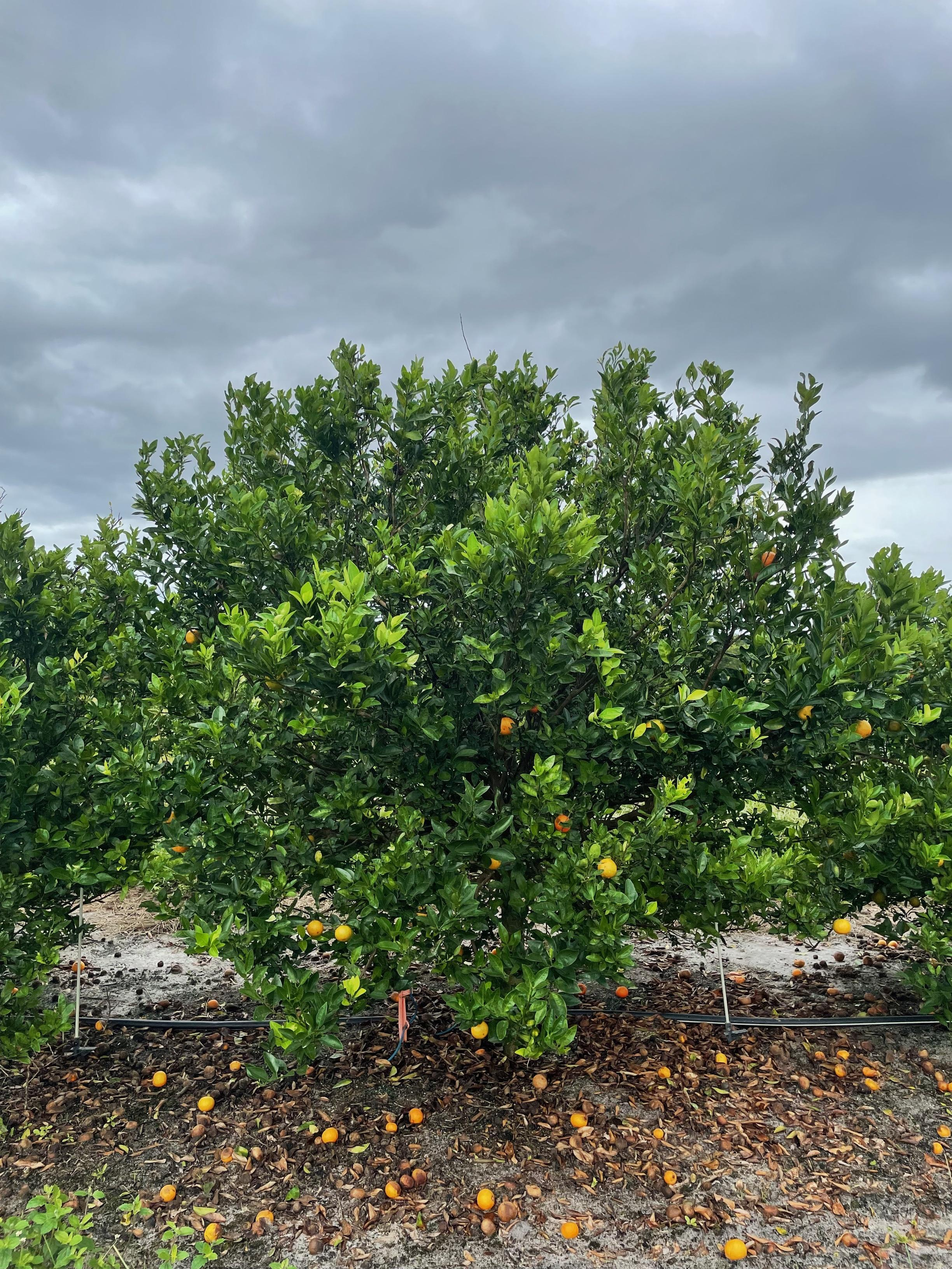fruit_on_ground: (262, 664, 292, 694), (753, 543, 781, 570), (641, 717, 669, 741), (494, 713, 519, 738), (595, 855, 620, 880), (159, 809, 184, 833), (551, 811, 575, 835), (469, 1018, 492, 1042), (794, 702, 819, 723), (183, 626, 205, 648), (304, 918, 326, 940), (483, 851, 506, 872), (852, 717, 874, 738), (831, 916, 853, 937), (170, 834, 192, 854), (333, 923, 354, 943), (885, 717, 903, 734), (870, 889, 887, 906), (907, 894, 922, 909), (937, 739, 951, 755), (585, 439, 594, 448)
fruit_on_tree: (723, 1237, 748, 1261), (474, 1187, 496, 1210), (560, 1219, 581, 1240), (499, 1198, 519, 1220), (202, 1223, 224, 1243), (568, 1109, 590, 1129), (158, 1182, 178, 1203), (196, 1094, 216, 1114), (531, 1071, 550, 1092), (254, 1208, 275, 1227), (320, 1125, 340, 1144), (839, 1231, 860, 1249), (383, 1180, 402, 1199), (306, 1237, 326, 1255), (189, 1123, 208, 1141), (408, 1106, 426, 1125), (524, 1181, 544, 1198), (662, 1168, 679, 1187), (151, 1068, 168, 1087), (665, 1203, 683, 1220), (218, 1147, 236, 1164), (69, 957, 87, 974), (479, 1218, 497, 1235), (412, 1168, 429, 1185), (929, 1139, 945, 1156), (614, 984, 631, 1000), (712, 1050, 730, 1065), (399, 1173, 415, 1189), (572, 981, 589, 996), (870, 1002, 888, 1016), (261, 1085, 276, 1101), (936, 1122, 951, 1138), (650, 1126, 666, 1141), (249, 1145, 264, 1161), (656, 1064, 672, 1079), (834, 1062, 849, 1078), (933, 1070, 947, 1087), (302, 1063, 317, 1078), (228, 1058, 243, 1073), (835, 1047, 851, 1061), (862, 1064, 878, 1078), (935, 1078, 950, 1092), (93, 1018, 108, 1032), (796, 1076, 811, 1090), (920, 1059, 935, 1073), (864, 1078, 880, 1091), (349, 1186, 365, 1199), (385, 1120, 399, 1134), (811, 1049, 826, 1062), (810, 1085, 825, 1098), (221, 965, 235, 978), (917, 1046, 931, 1059), (863, 989, 877, 1002), (678, 968, 692, 981), (826, 984, 841, 996), (205, 997, 220, 1009), (739, 993, 753, 1005), (157, 997, 171, 1009), (831, 949, 845, 961), (793, 956, 807, 967), (791, 968, 804, 979), (861, 954, 873, 965), (888, 939, 901, 949), (875, 937, 888, 947), (842, 991, 855, 1001)
